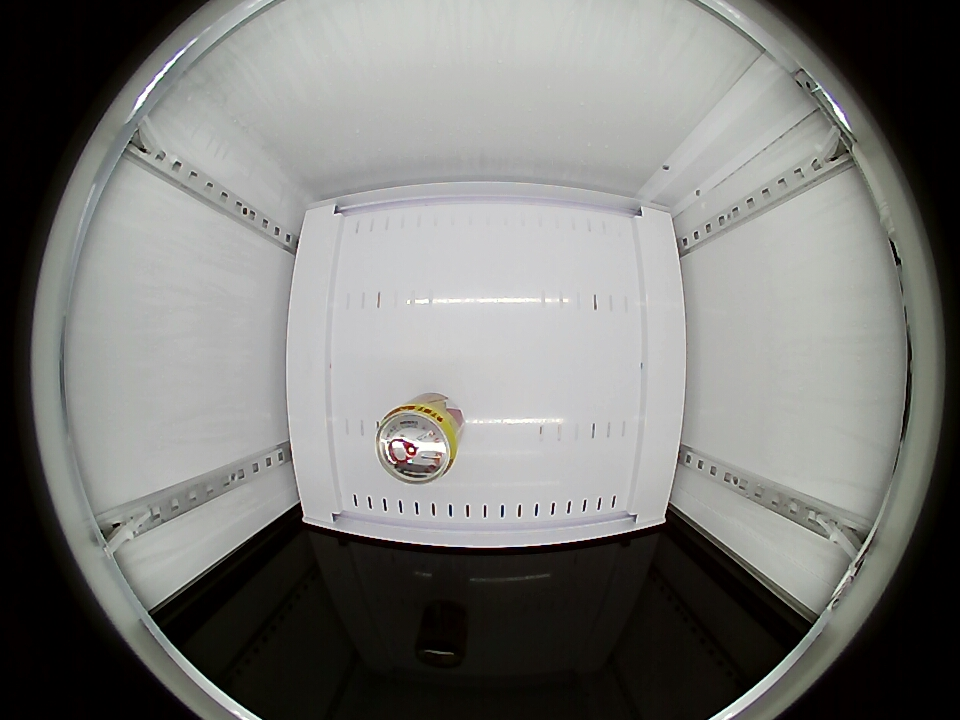dongpeng: (375, 399, 462, 484)
